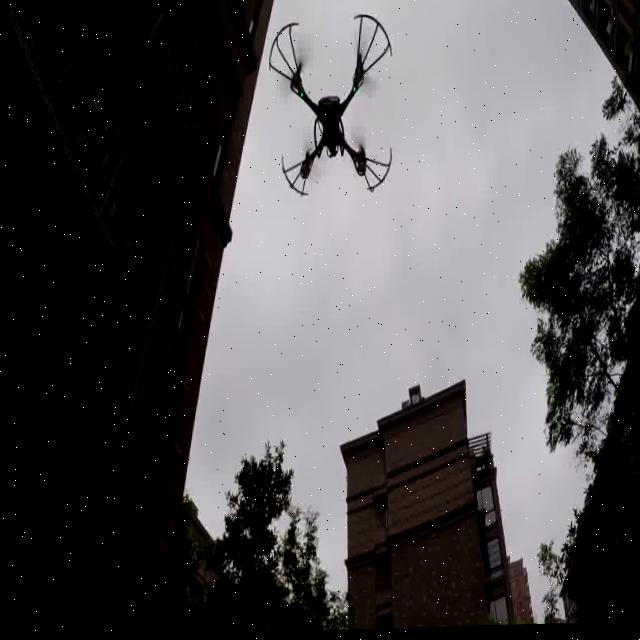drone: (260, 0, 402, 218)
